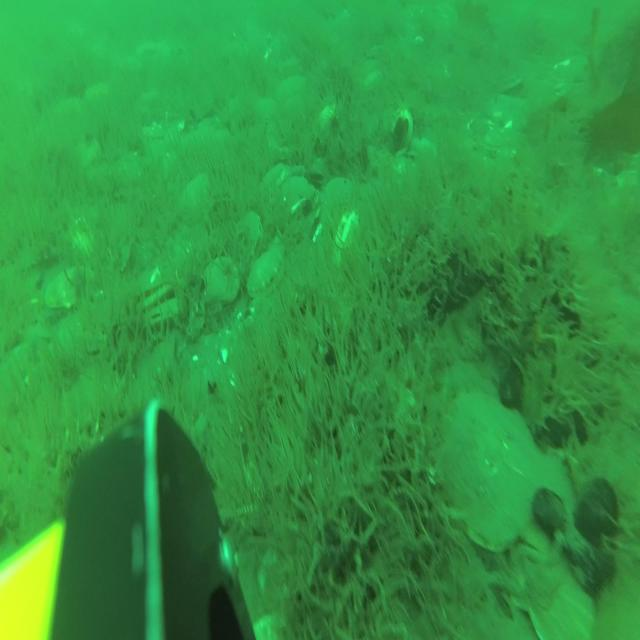scallop: (440, 386, 537, 551), (523, 550, 592, 639), (517, 451, 573, 559), (48, 260, 90, 316), (246, 244, 283, 301), (289, 238, 329, 288), (202, 253, 238, 305), (183, 175, 216, 226), (231, 212, 264, 263), (279, 177, 314, 220), (144, 297, 180, 335), (323, 174, 354, 218), (138, 284, 172, 313), (261, 166, 288, 198), (312, 101, 335, 138), (486, 122, 512, 149), (134, 270, 161, 295), (254, 96, 276, 125)
